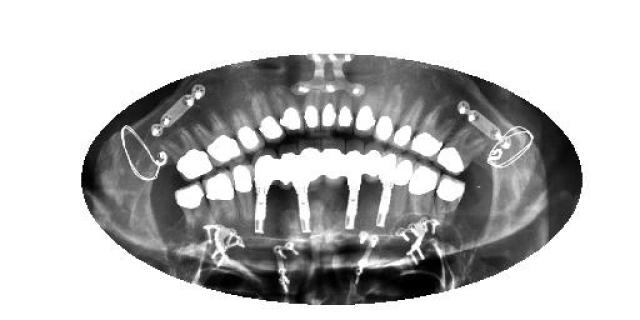Fillings: (160, 128, 215, 182), (193, 112, 245, 168), (408, 105, 458, 160), (441, 124, 489, 176), (175, 181, 216, 234), (204, 169, 238, 230), (391, 96, 425, 150), (252, 91, 286, 144), (374, 85, 405, 143), (409, 162, 441, 218), (231, 105, 265, 156), (434, 175, 466, 229), (272, 86, 306, 136), (354, 82, 384, 138), (230, 161, 255, 225), (321, 140, 345, 190), (392, 152, 418, 188), (276, 145, 296, 191), (362, 142, 383, 182), (335, 90, 354, 132), (304, 89, 322, 132), (322, 92, 338, 132)
Implant: (295, 138, 323, 234), (373, 149, 402, 229), (252, 149, 278, 236), (342, 140, 362, 229)
